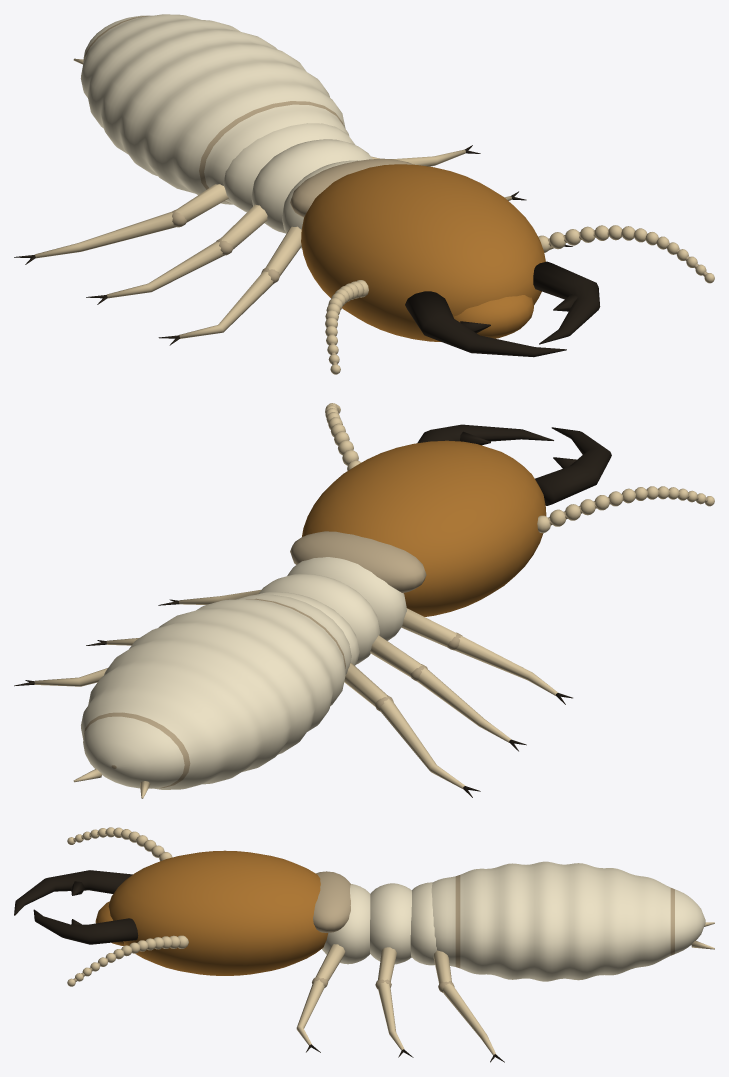
File: Termite.fbx
The picture shows the model from 3 angles, top to bottom: view 1: azimuth 30°, elevation 25°; view 2: azimuth 150°, elevation 25°; view 3: azimuth 270°, elevation 25°; orthographic projection. The views are drawn at different scales.
Parts seen in each view (by area): view 1: Termite_TermiteAmberHead, Termite_TermiteSoftIvory, Termite_TermiteLegIvory, Termite_TermiteSoftIvory.001, Termite_BlattodeaDarkCuticle, Termite_TermiteJointMembrane; view 2: Termite_TermiteSoftIvory, Termite_TermiteAmberHead, Termite_TermiteLegIvory, Termite_TermiteSoftIvory.001, Termite_BlattodeaDarkCuticle, Termite_TermiteJointMembrane; view 3: Termite_TermiteSoftIvory, Termite_TermiteAmberHead, Termite_TermiteSoftIvory.001, Termite_TermiteLegIvory, Termite_BlattodeaDarkCuticle, Termite_TermiteJointMembrane.
Boxes of the visible parts, x1=… form: Termite_TermiteAmberHead: x1=301, y1=164, x2=545, y2=341; Termite_TermiteSoftIvory: x1=80, y1=14, x2=349, y2=204; Termite_TermiteLegIvory: x1=34, y1=58, x2=714, y2=374; Termite_TermiteSoftIvory.001: x1=223, y1=123, x2=372, y2=248; Termite_BlattodeaDarkCuticle: x1=14, y1=145, x2=600, y2=357; Termite_TermiteJointMembrane: x1=172, y1=158, x2=707, y2=364; Termite_TermiteSoftIvory: x1=81, y1=594, x2=351, y2=789; Termite_TermiteAmberHead: x1=302, y1=440, x2=546, y2=616; Termite_TermiteLegIvory: x1=34, y1=403, x2=714, y2=798; Termite_TermiteSoftIvory.001: x1=256, y1=557, x2=406, y2=665; Termite_BlattodeaDarkCuticle: x1=14, y1=424, x2=611, y2=797; Termite_TermiteJointMembrane: x1=290, y1=440, x2=707, y2=711; Termite_TermiteSoftIvory: x1=431, y1=861, x2=705, y2=981; Termite_TermiteAmberHead: x1=95, y1=850, x2=328, y2=975; Termite_TermiteSoftIvory.001: x1=322, y1=882, x2=436, y2=965; Termite_TermiteLegIvory: x1=67, y1=827, x2=714, y2=1055; Termite_BlattodeaDarkCuticle: x1=14, y1=870, x2=504, y2=1062; Termite_TermiteJointMembrane: x1=73, y1=831, x2=454, y2=992.
Bounding box in the file's own units: 0.5869 × 0.1793 × 1.
